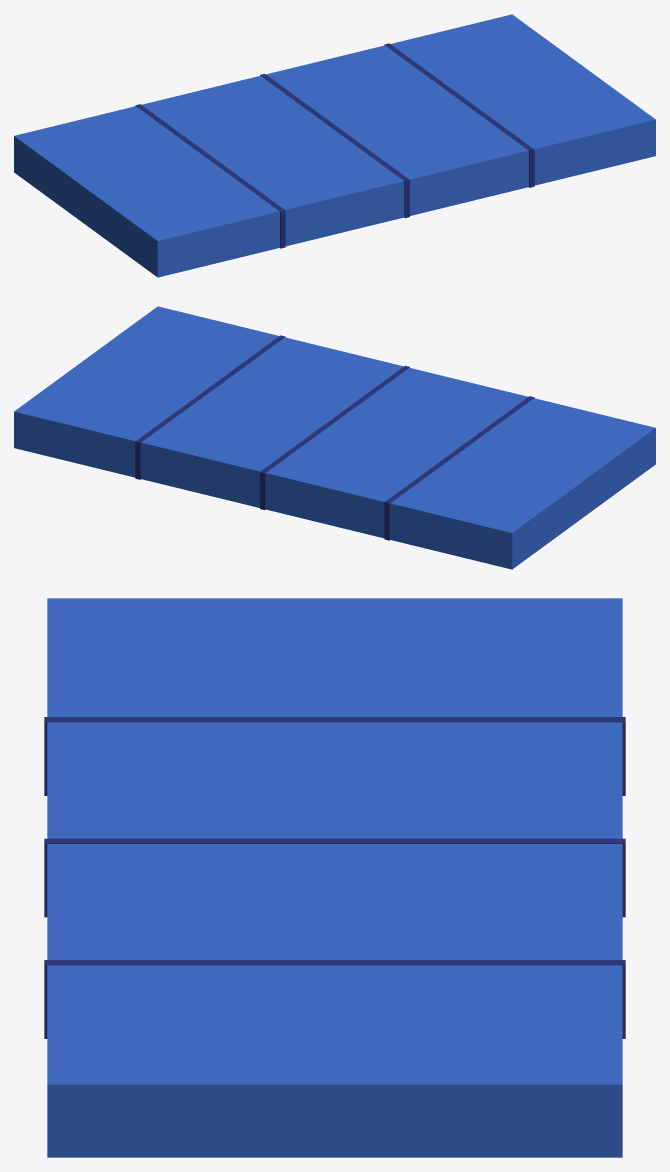
The picture shows the model from 3 angles, top to bottom: view 1: azimuth 30°, elevation 25°; view 2: azimuth 150°, elevation 25°; view 3: azimuth 270°, elevation 25°; orthographic projection. The views are drawn at different scales.
Parts seen in each view (by area): view 1: mat; view 2: mat; view 3: mat.
Part boxes in pixels (bbox=[...]): mat: bbox=[14, 14, 655, 277]; mat: bbox=[14, 306, 655, 569]; mat: bbox=[44, 598, 625, 1157].
Bounding box in the file's own units: 2 × 0.142 × 1.01.
